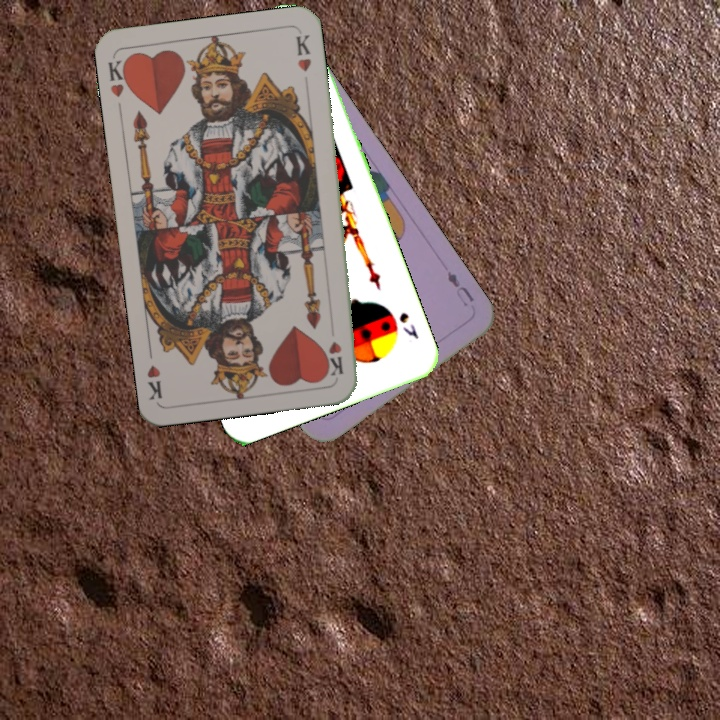EU: (443, 266, 477, 310)
HK: (104, 54, 134, 100), (325, 338, 346, 378)
SK: (395, 308, 421, 342)
